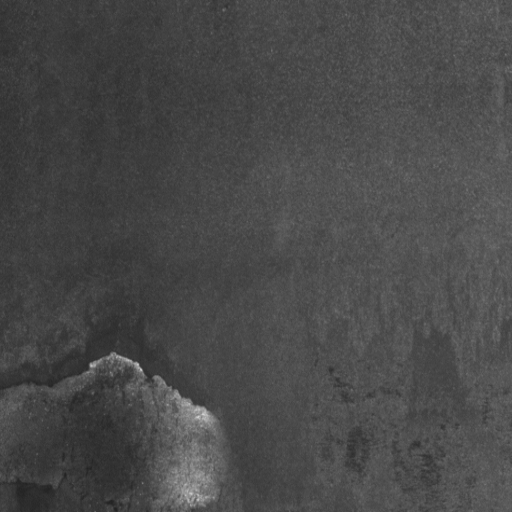qiaopi: (2, 351, 234, 512)
